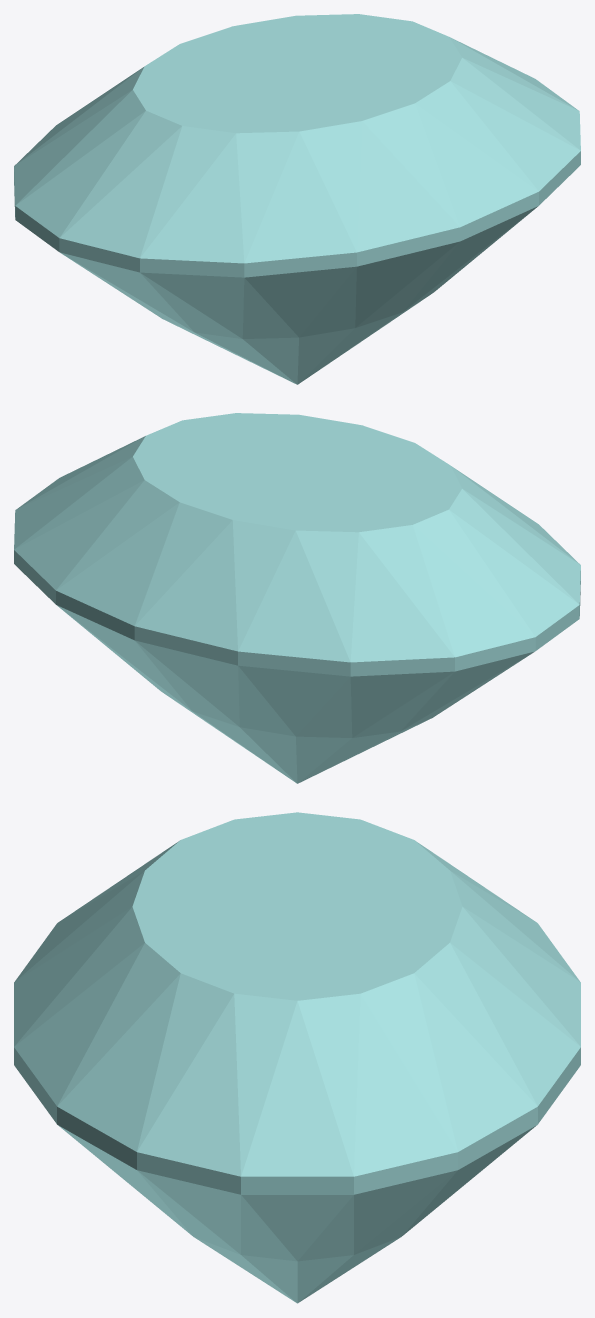
Rendered from apatite.glb.
3 views of the same model, one above another, from view 1: azimuth 30°, elevation 25°; view 2: azimuth 150°, elevation 25°; view 3: azimuth 270°, elevation 25° (orthographic). The views are drawn at different scales.
Parts seen in each view (by area): view 1: apatite; view 2: apatite; view 3: apatite.
Part boxes in pixels (<box>): apatite: <box>14,14,580,384</box>; apatite: <box>14,413,580,783</box>; apatite: <box>14,812,580,1303</box>.
Size of the model in its own units: 0.25 by 0.1429 by 0.185.
